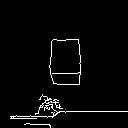cube: (40, 37, 91, 93)
